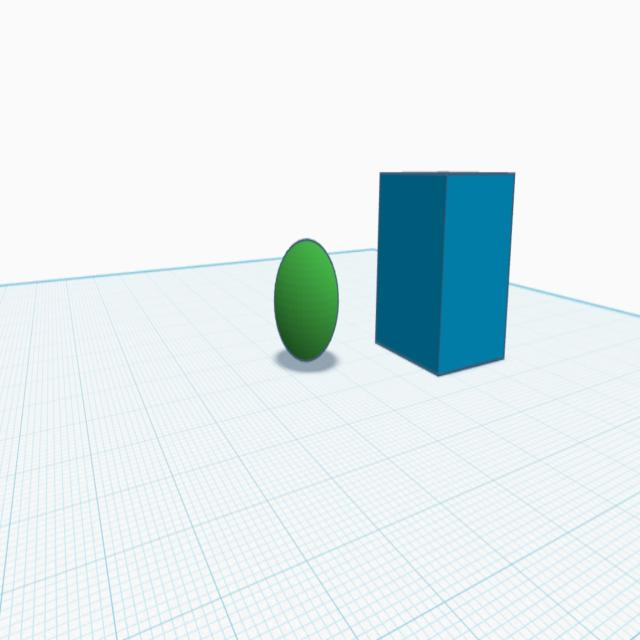cube: (372, 156, 518, 382)
sphere: (271, 232, 341, 367)
